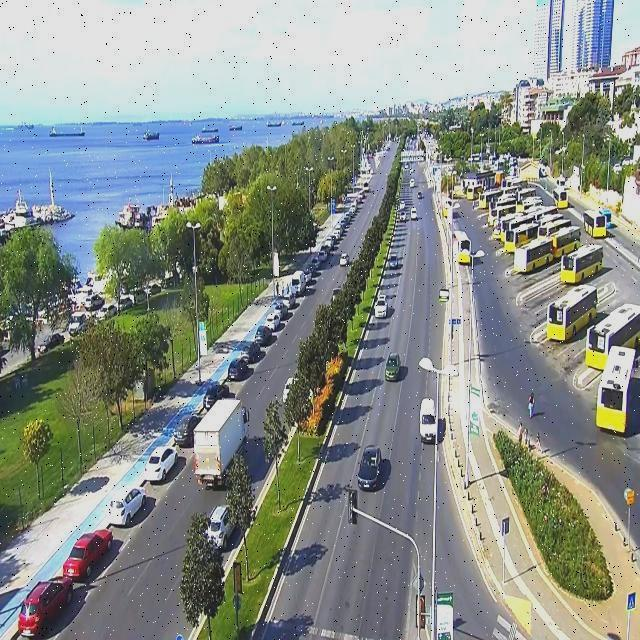Bus: (595, 346, 639, 436), (546, 281, 603, 347), (586, 304, 639, 366), (561, 244, 603, 284), (514, 237, 554, 274), (545, 224, 581, 258), (504, 221, 540, 252), (583, 208, 607, 236), (453, 229, 471, 263), (530, 205, 558, 225), (495, 194, 519, 217), (488, 203, 509, 229), (480, 188, 502, 212), (516, 187, 538, 209), (463, 178, 483, 199), (553, 187, 569, 210), (494, 154, 512, 170), (442, 198, 454, 217), (505, 176, 520, 188), (494, 172, 504, 186), (556, 177, 566, 187), (492, 161, 501, 171)
Car: (19, 577, 72, 634), (63, 529, 111, 580), (102, 485, 145, 527), (351, 444, 388, 487), (204, 505, 234, 551), (139, 447, 176, 482), (173, 415, 201, 446), (202, 383, 227, 408), (227, 357, 251, 381), (238, 341, 262, 364), (384, 352, 402, 380), (264, 308, 283, 332), (254, 324, 274, 346), (40, 333, 64, 351), (373, 296, 388, 318), (282, 377, 295, 402), (269, 300, 287, 316), (305, 260, 320, 277), (88, 294, 105, 309), (300, 270, 315, 286), (68, 321, 85, 335), (102, 305, 118, 318), (314, 250, 328, 264), (118, 298, 134, 310), (321, 240, 333, 254), (330, 231, 341, 245), (438, 288, 449, 302), (388, 256, 398, 270), (338, 216, 349, 228), (348, 203, 358, 216), (352, 192, 363, 203), (339, 254, 349, 266), (376, 292, 386, 304), (411, 207, 418, 219), (399, 212, 406, 222), (362, 182, 369, 192), (409, 178, 415, 188), (399, 201, 405, 209), (417, 191, 423, 199), (385, 146, 391, 152), (404, 163, 409, 169), (410, 168, 414, 174)
Truck: (187, 398, 251, 492)
Van: (419, 397, 437, 442)
